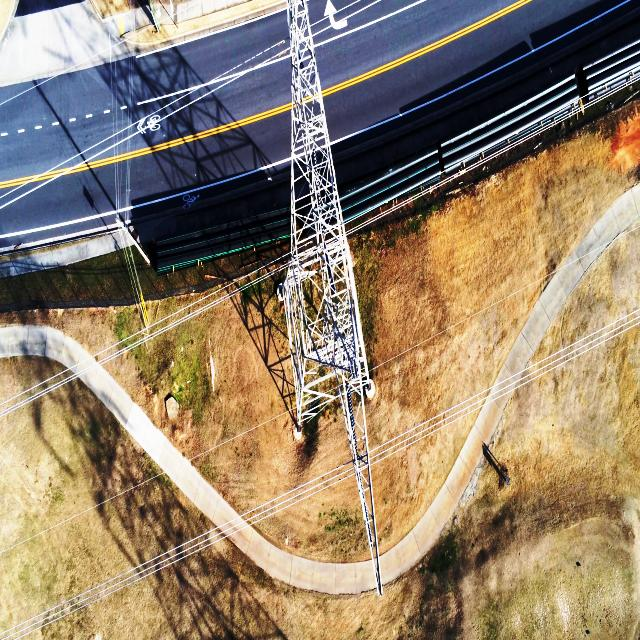poles: (284, 0, 382, 595)
wires: (340, 55, 640, 234), (0, 524, 237, 640), (94, 249, 289, 364), (370, 385, 496, 464), (510, 310, 640, 386), (235, 461, 354, 526), (0, 374, 78, 416), (0, 525, 58, 555)
